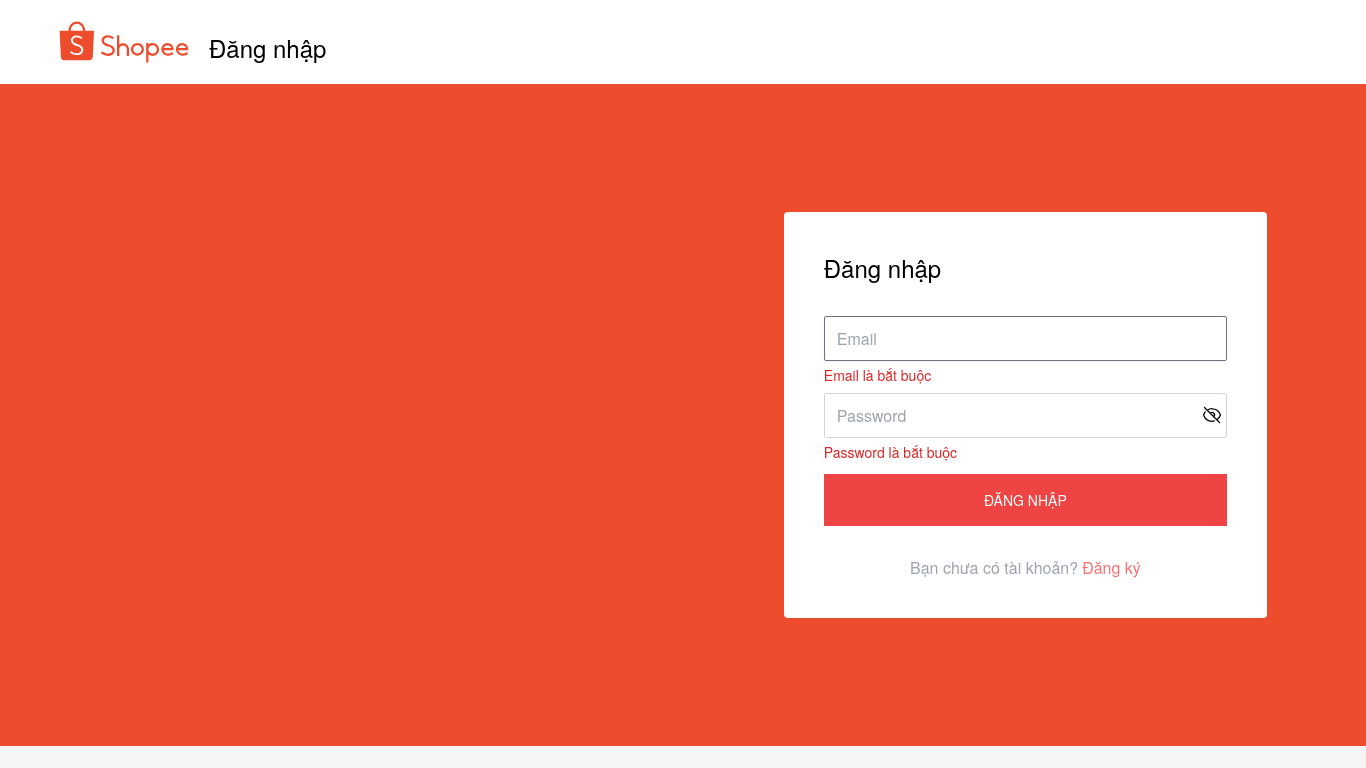
Login › Hiển thị lỗi khi nhập value input sai
Type "test@mail" into the field with placeholder "Email" at (1025, 339), box x1=824 y1=316 x2=1227 y2=361
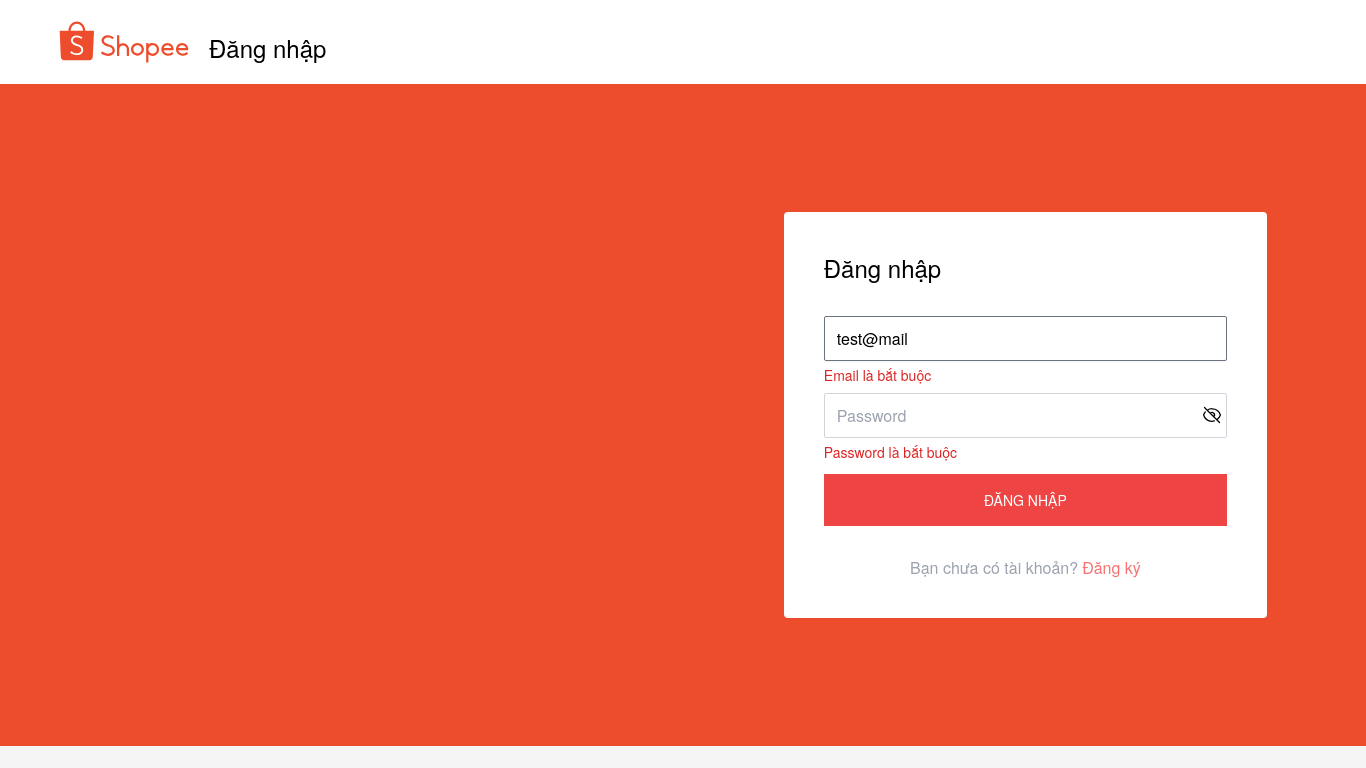
Type "123" into the password field with placeholder "Password" at (1025, 416), box x1=824 y1=393 x2=1227 y2=438
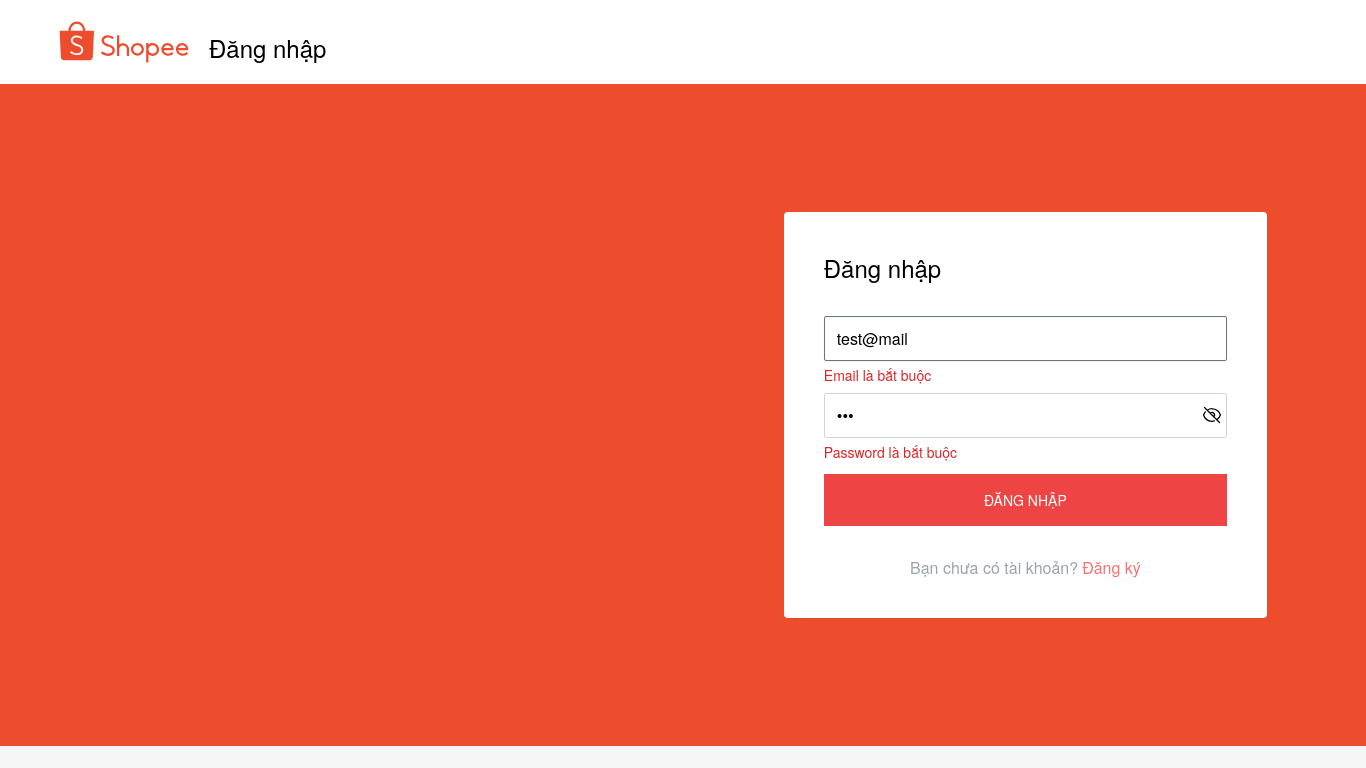
Submit the form from the button "Đăng nhập", box x1=824 y1=474 x2=1227 y2=526
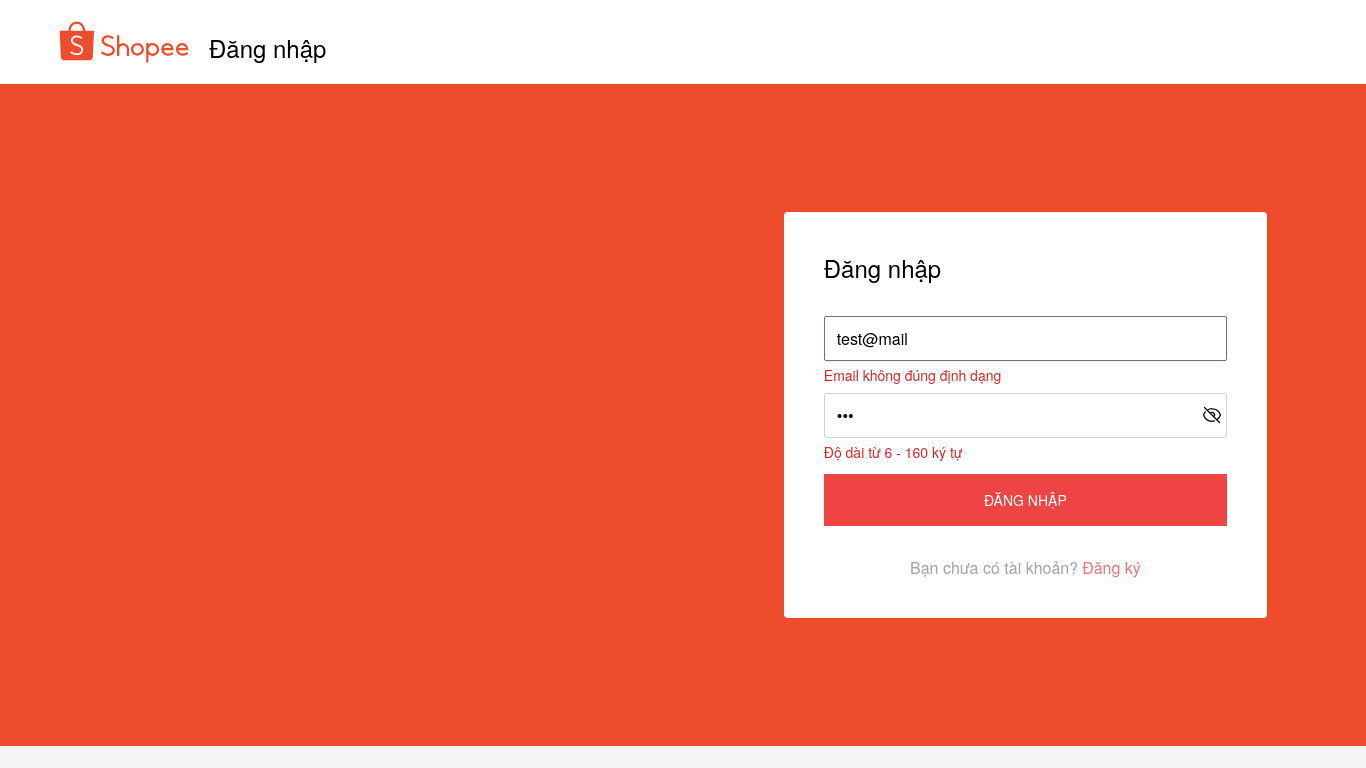
Result: the text "Email không đúng định dạng" is shown at x1=824 y1=365 x2=1001 y2=385
Result: the text "Độ dài từ 6 - 160 ký tự" is shown at x1=824 y1=442 x2=962 y2=462
